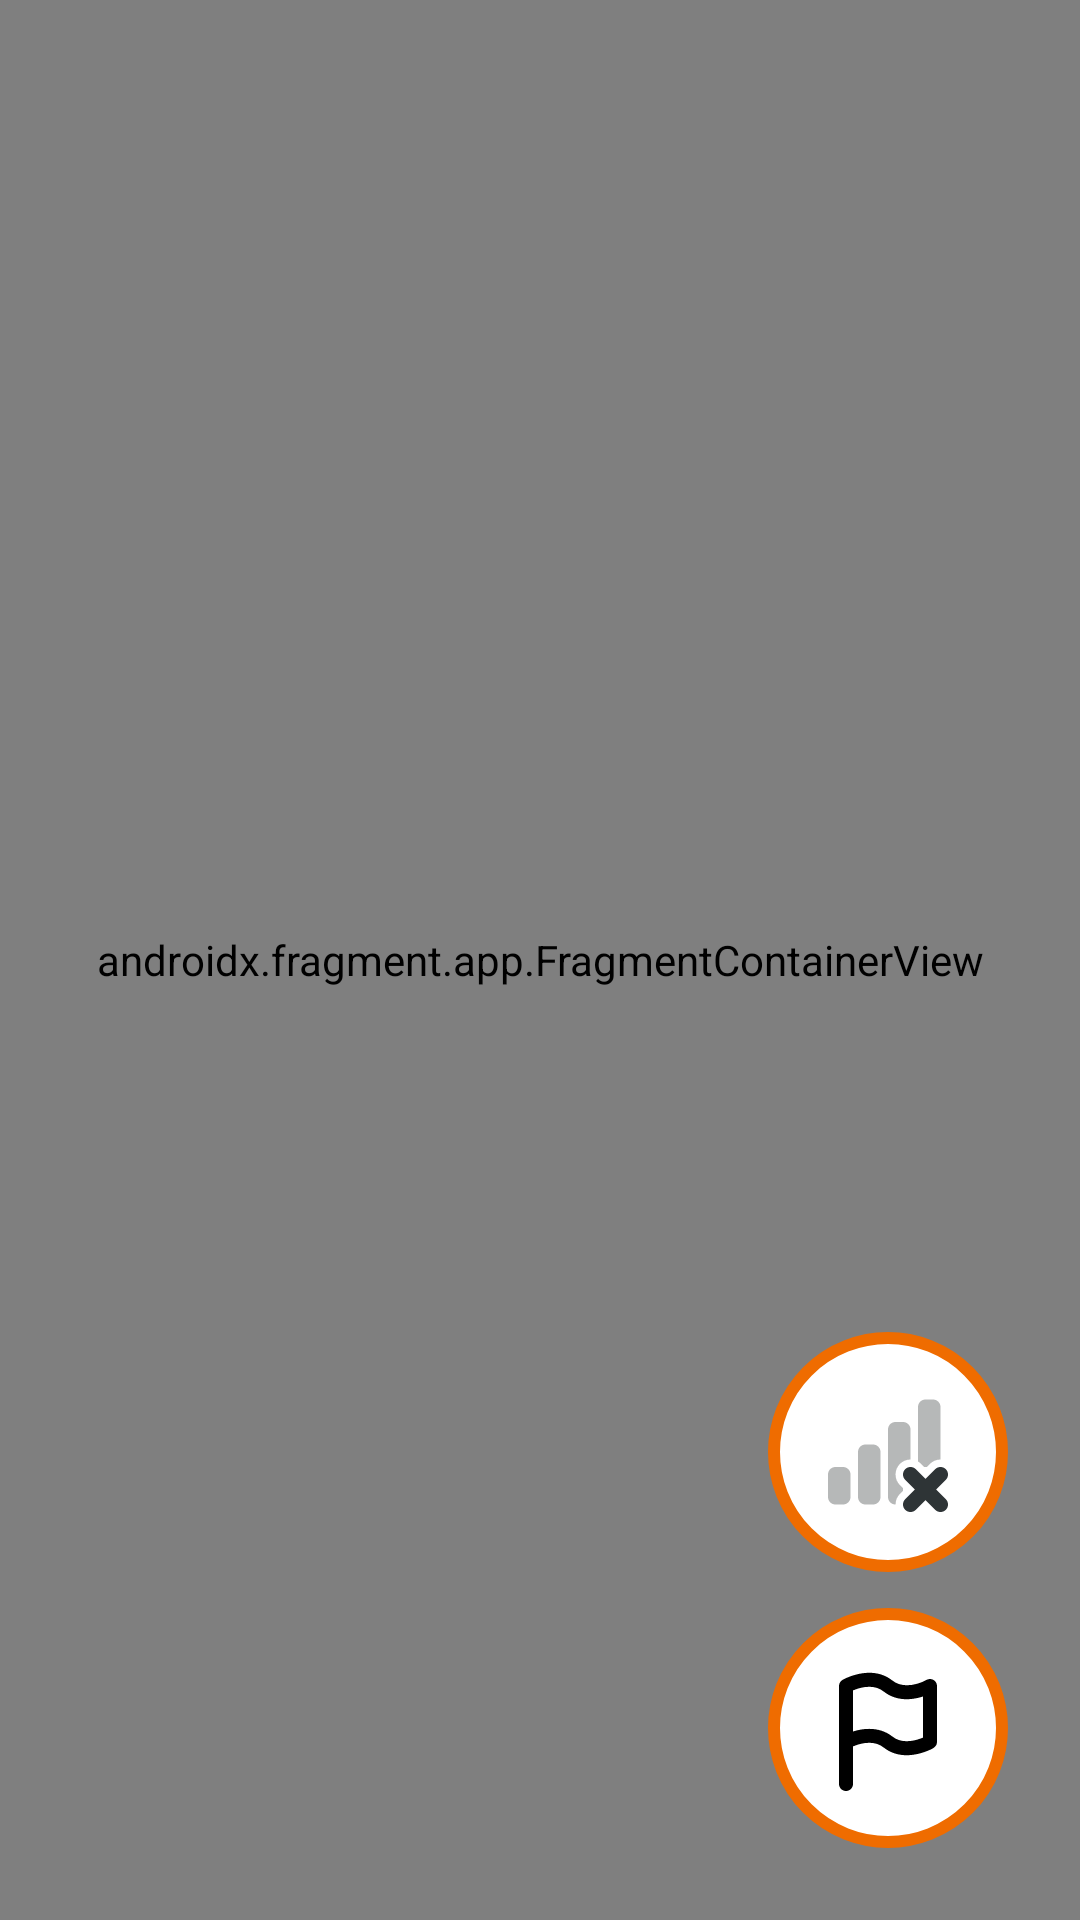

Screen size 1080w x 1920h. Icon name, then its center in pixels as [x,y]:
flag: [888,1728]
offline: [888,1452]
